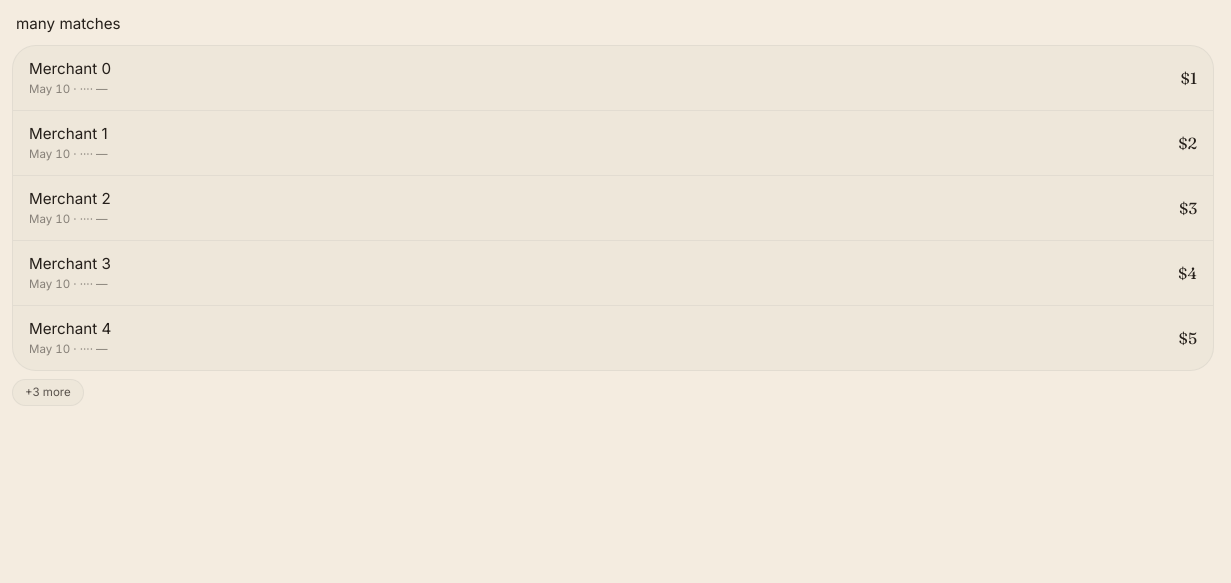
Test: CandidateCards › collapses past 5 rows behind a "+N more" button
The width and height of the screenshot is (1231, 583).
Expected: the text "Merchant 0" is shown, [29,58,111,80]
Expected: the text "Merchant 4" is shown, [29,318,111,341]
Click the button "+3 more": (48, 393) [12,379,84,406]
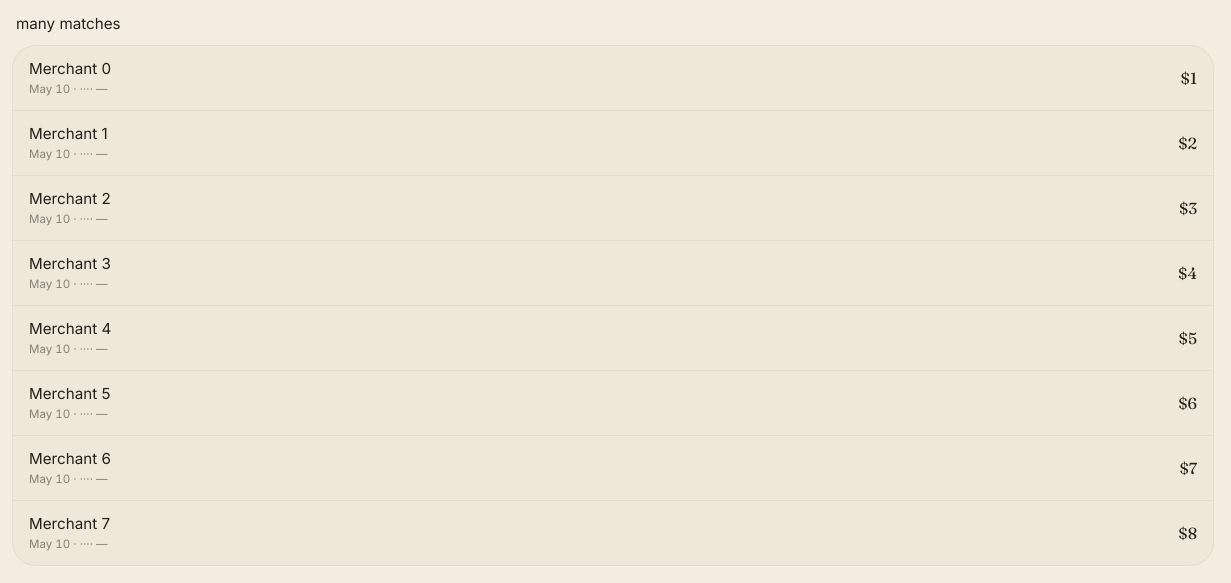
Expected: the text "Merchant 7" is shown, [29,513,110,536]
